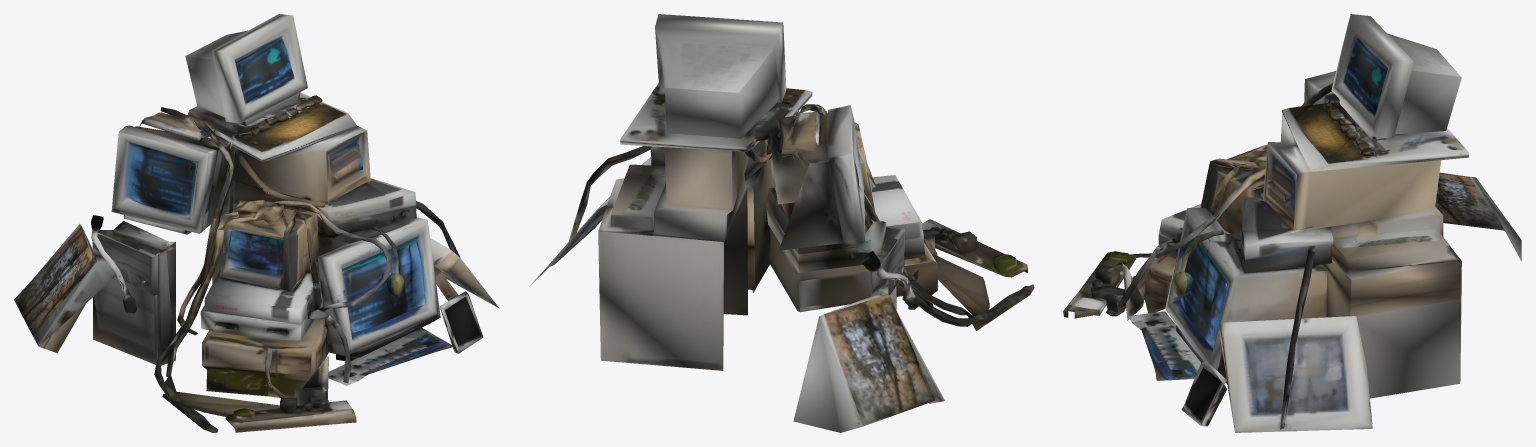
Rendered from pile.glb.
3 renders of one model, left to right at view 1: azimuth 30°, elevation 25°; view 2: azimuth 150°, elevation 25°; view 3: azimuth 270°, elevation 25°, orthographic. The views are drawn at different scales.
Parts seen in each view (by area): view 1: material; view 2: material; view 3: material.
Boxes of the visible parts, x1,y1,x2,y2 form: material: (14,14,499,432); material: (529,14,1034,432); material: (1063,14,1521,432).
Bounding box in the file's own units: 3.14 × 2.21 × 2.94.
Materials: 1 (1 with a texture image).
